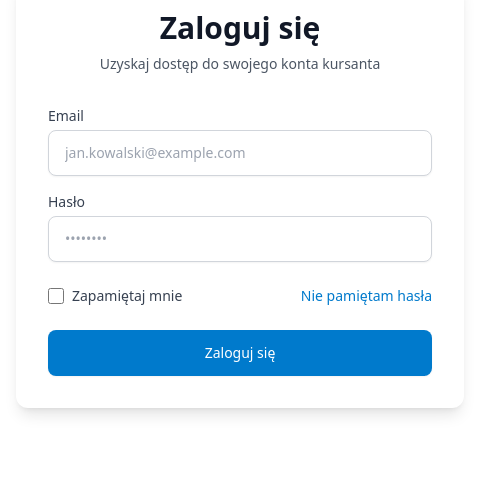
LoginForm › Form Validation › should validate email format
In the field with test id "email-input": [240, 153] box x1=48 y1=130 x2=432 y2=176, type "invalid-email"
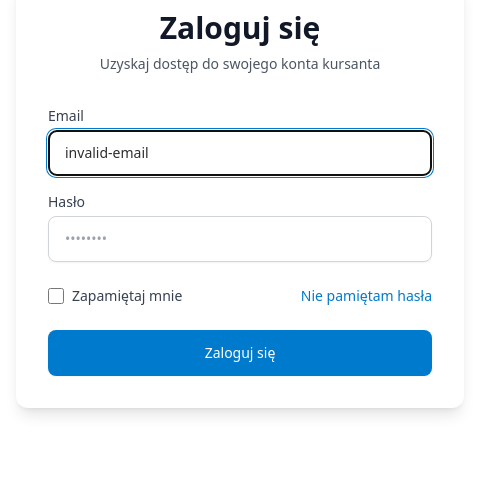
Press Tab
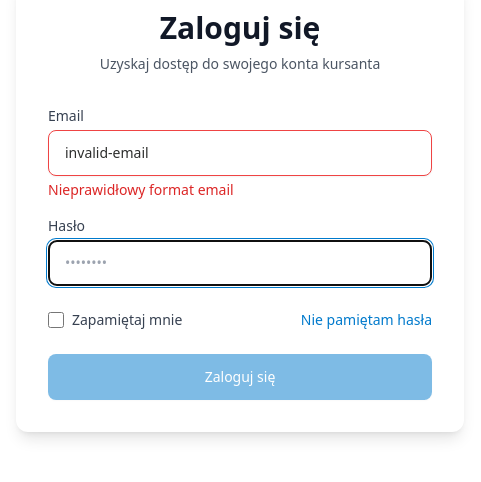
Now the text with test id "email-error" reads "Nieprawidłowy format email", box x1=48 y1=180 x2=234 y2=199
Replace the text in the field with test id "email-input" with "test@example.com": [240, 153] box x1=48 y1=130 x2=432 y2=176
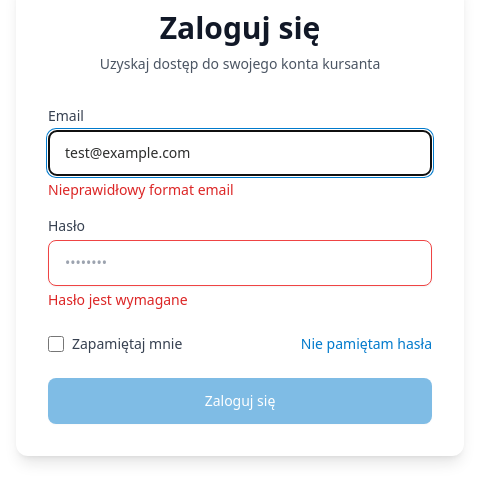
Press Tab
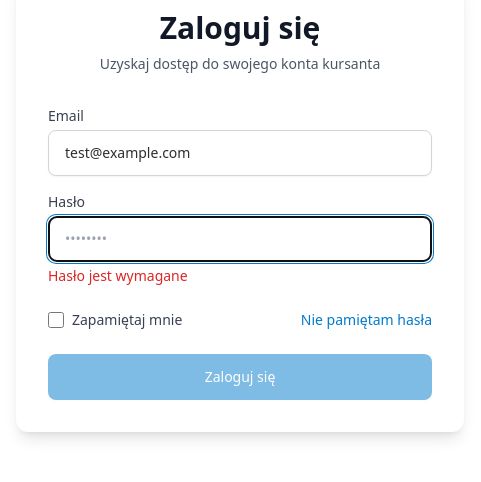
Now the text with test id "email-error" is gone
